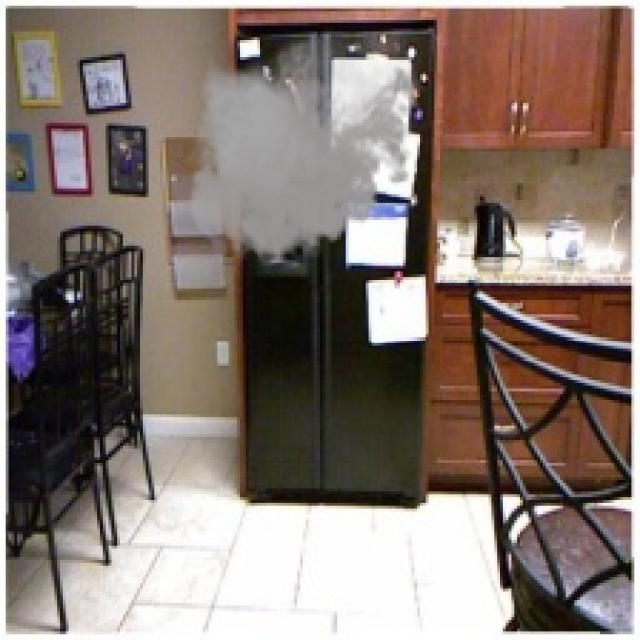smoke: (180, 26, 426, 274)
